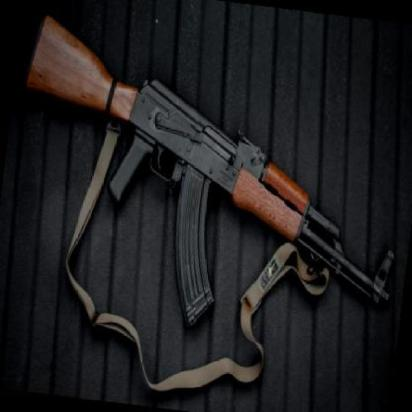Gun: (0, 2, 409, 342)
